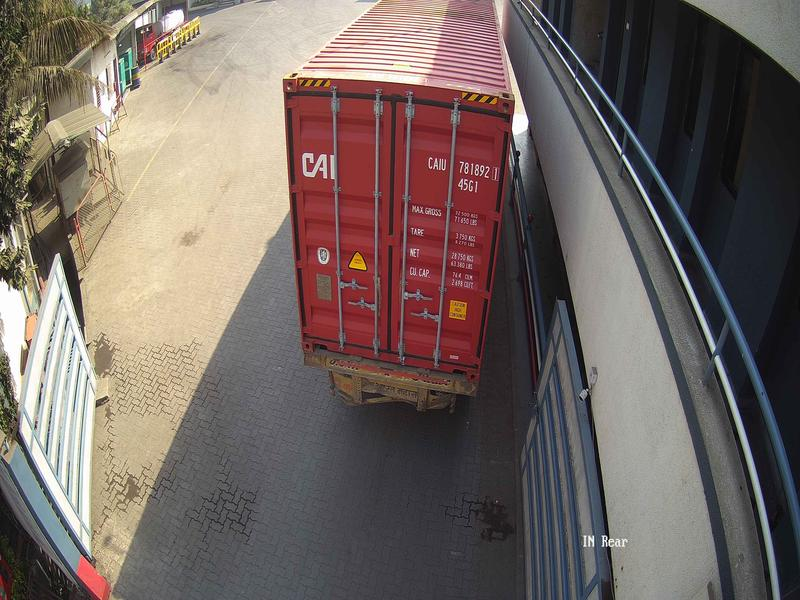container: (274, 81, 512, 391)
